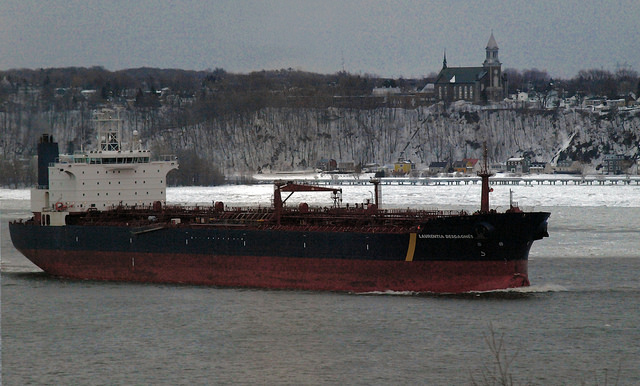tanker: (14, 104, 554, 293)
